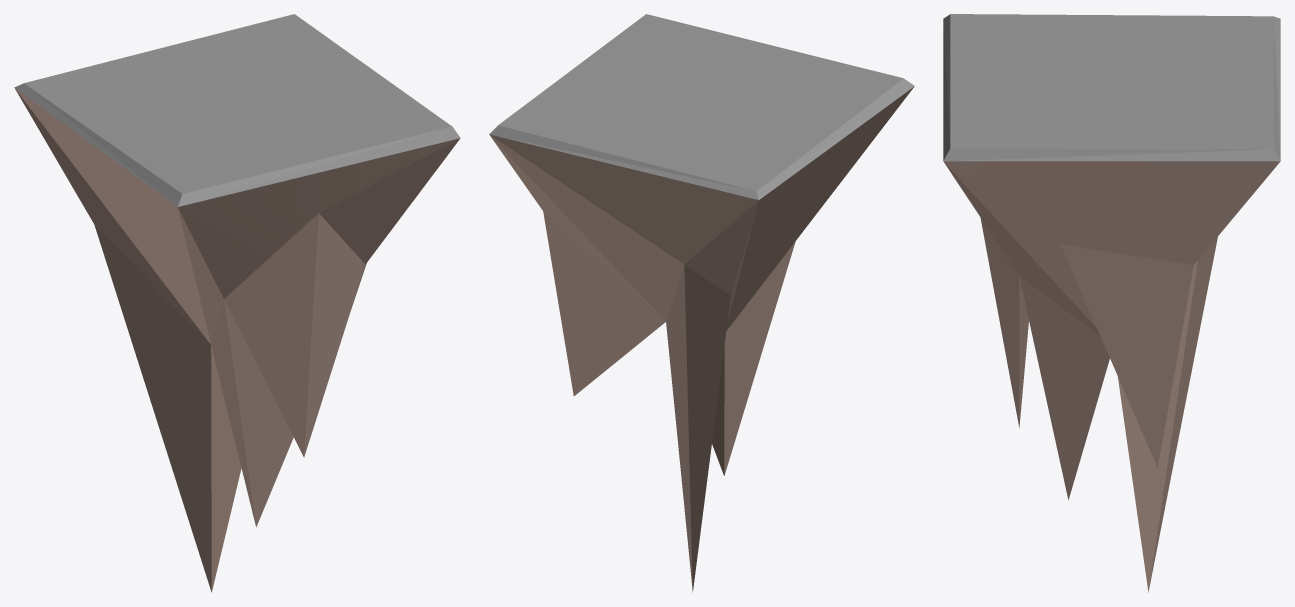
Rendered from land.gltf.
3 renders of one model, left to right at view 1: azimuth 30°, elevation 25°; view 2: azimuth 150°, elevation 25°; view 3: azimuth 270°, elevation 25°, orthographic. The views are drawn at different scales.
Visible parts, largest first — view 1: mesh1926919455; view 2: mesh1926919455; view 3: mesh1926919455.
Boxes of the visible parts, bbox=[...] form: mesh1926919455: bbox=[14, 14, 460, 592]; mesh1926919455: bbox=[489, 14, 914, 592]; mesh1926919455: bbox=[943, 14, 1280, 592].
Bounding box in the file's own units: 13.92 × 23.56 × 13.92.
